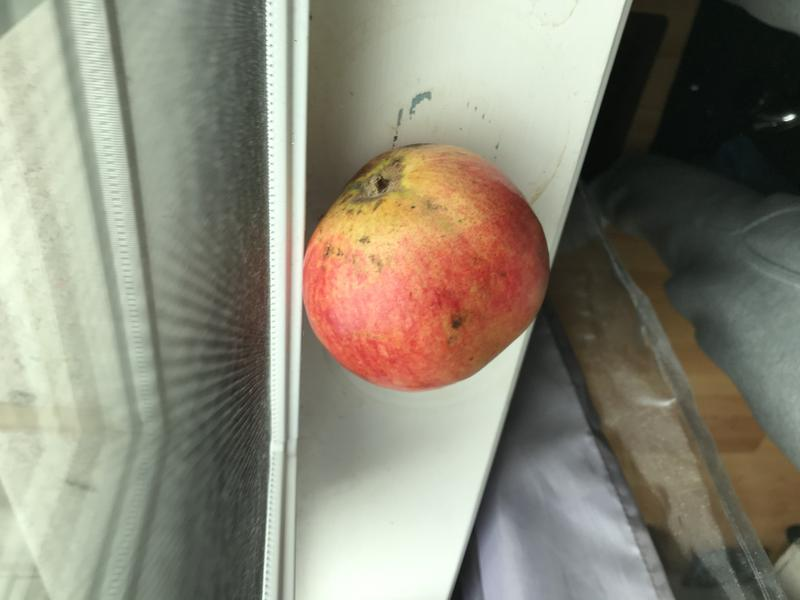pomegranate: (298, 133, 564, 407)
